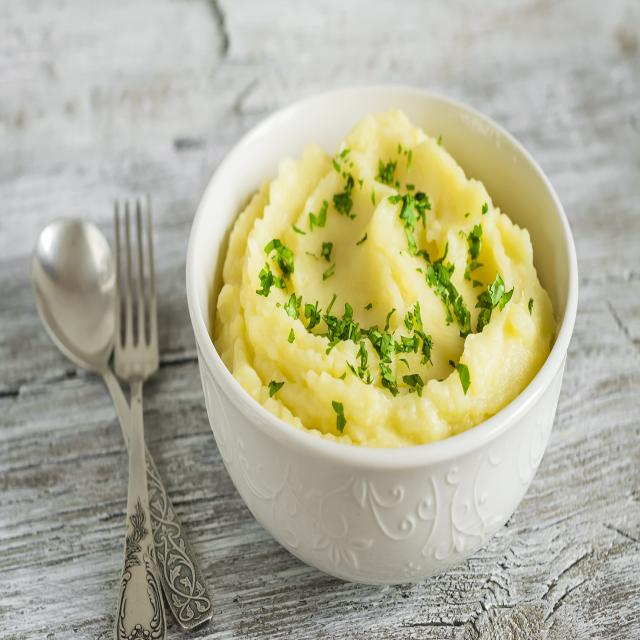papa: (210, 123, 570, 467)
